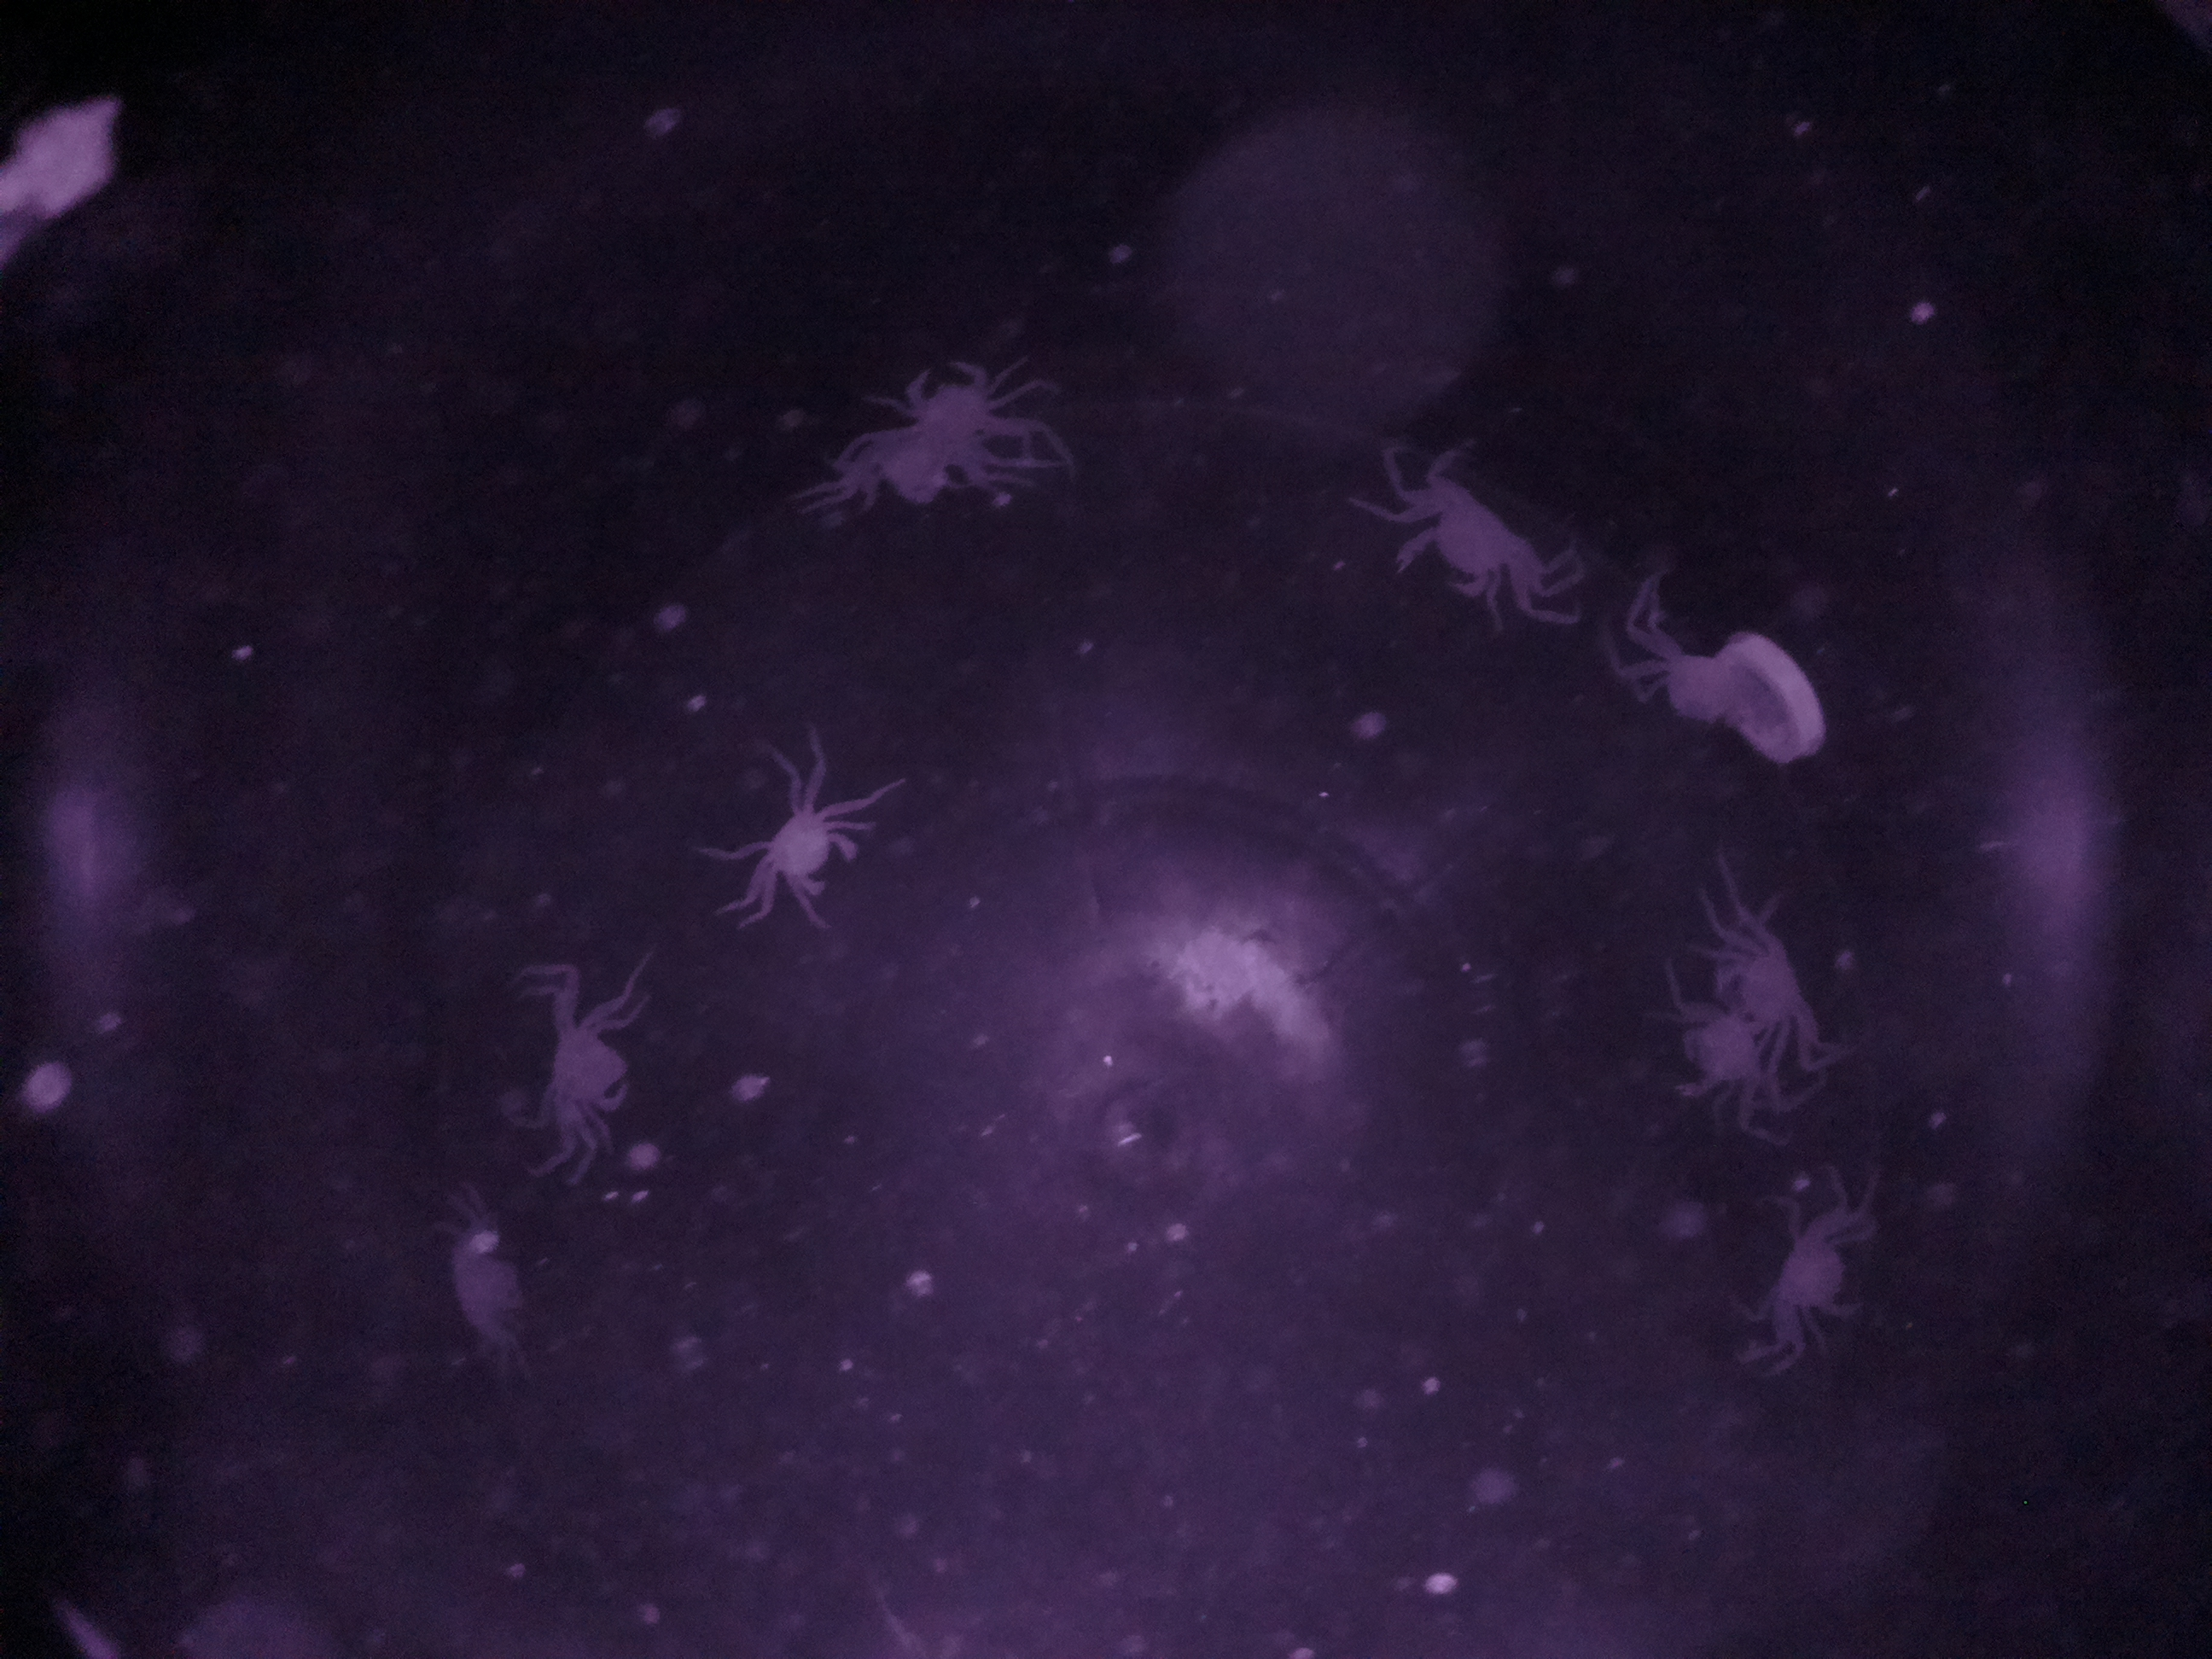Crab: (1376, 443, 1562, 638), (1766, 1155, 1898, 1378), (725, 772, 888, 946), (523, 971, 651, 1173), (1656, 976, 1787, 1145)
